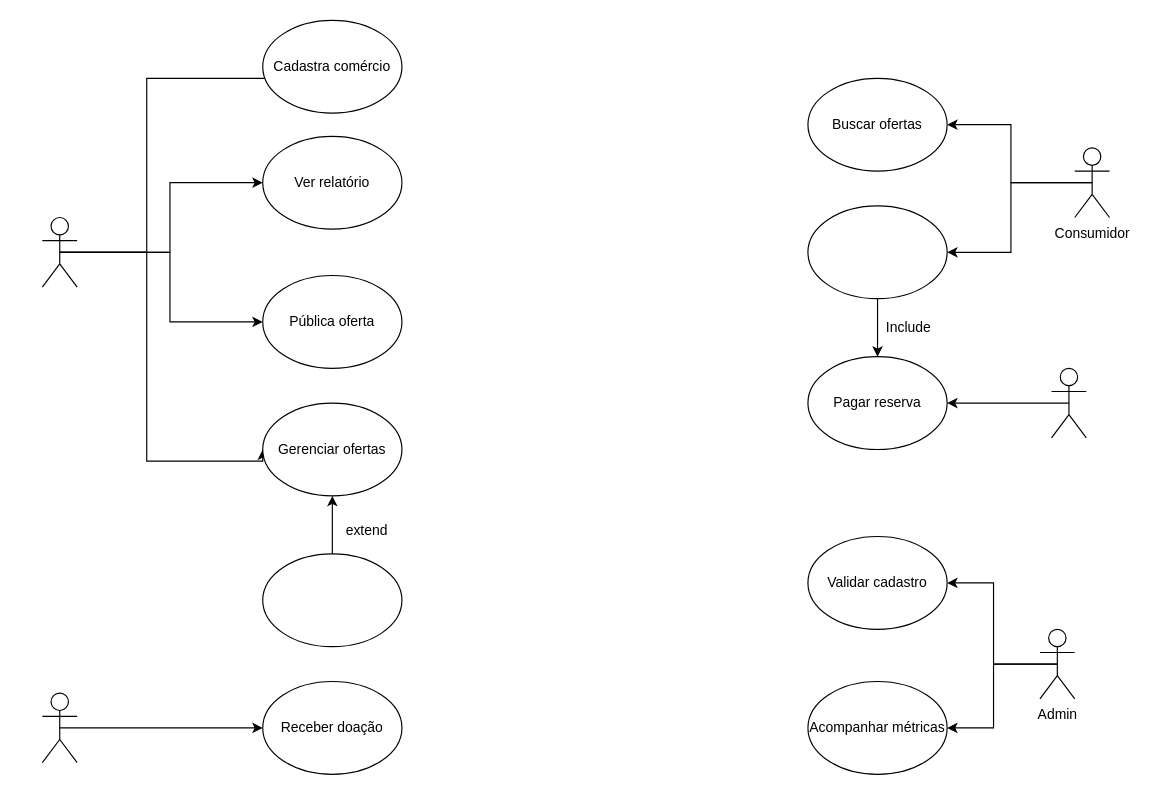
Image size: 1150x807. Some labels were removed from this diagram. Here are the shapes that lost their labels. From the top down, the centre of each, then its label:
At point 59,251: "Comerciante".
At point 877,252: "Reservar oferta".
At point 1068,402: "Pagamento".
At point 332,600: "Doar oferta a ONG".
At point 59,727: "ONG".
